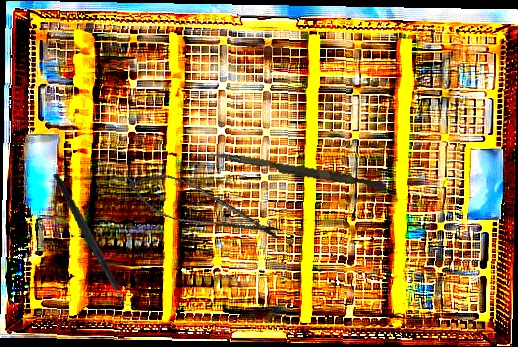Chopper: (51, 165, 139, 318)
Micro Scissor: (117, 163, 291, 253)
Pusher: (209, 151, 387, 191)
